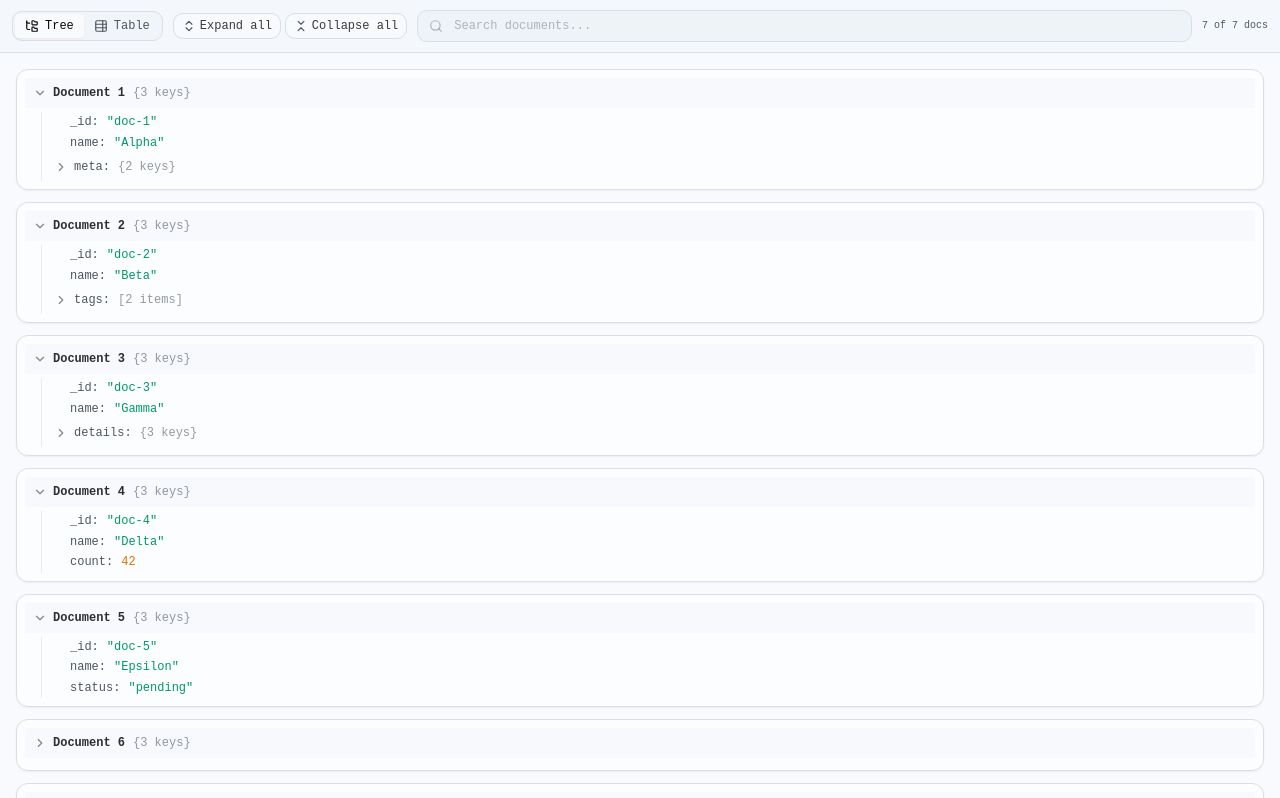
Test: NoSQLResults › expands and collapses all visible tree nodes deterministically via toolbar controls
Check: the button "config" is not shown
// Click expand all: all root documents and nested nodes mount and expand
Click the button "Expand all" at {"x": 227, "y": 26}, box [173, 13, 281, 39]
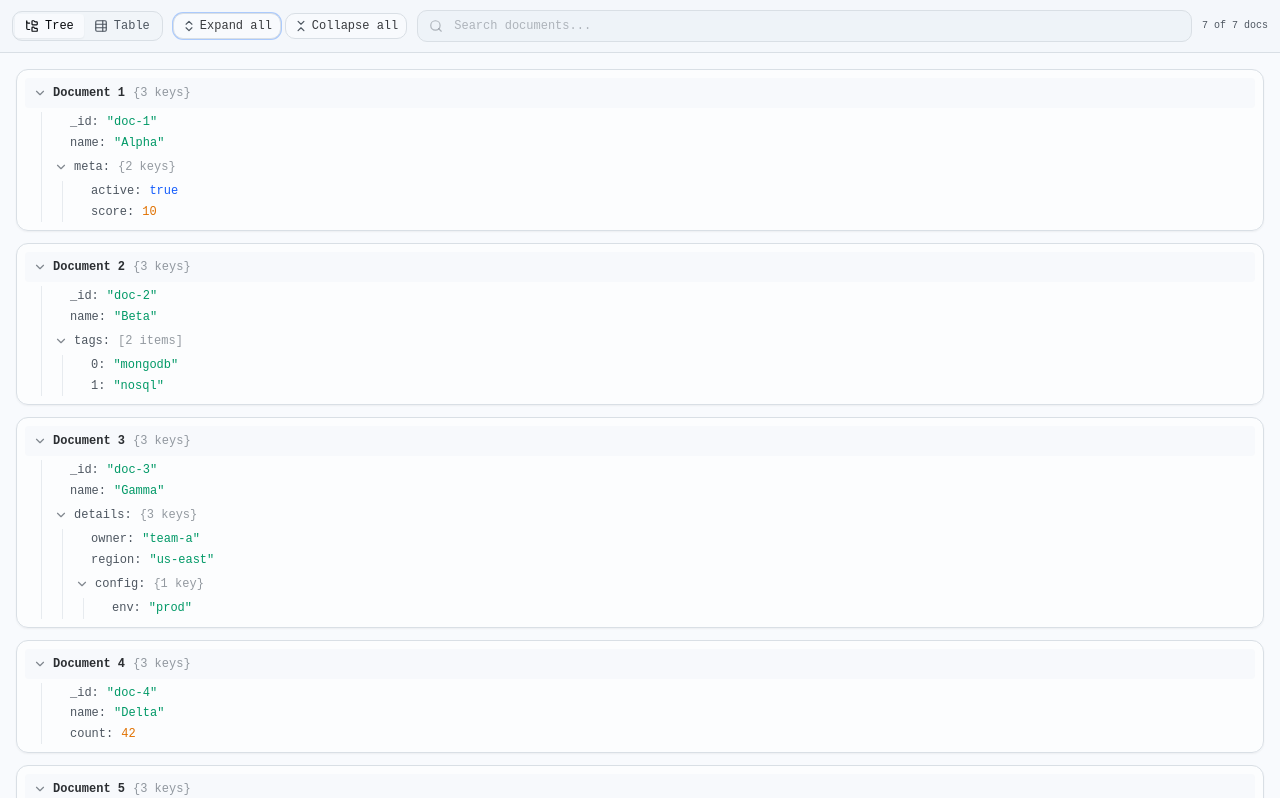
Check: the button "details: {3 keys}" is expanded, box [54, 505, 1247, 525]
// Click collapse all: all root documents and nested nodes collapse deterministically
Click the button "Collapse all" at {"x": 346, "y": 26}, box [285, 13, 407, 39]
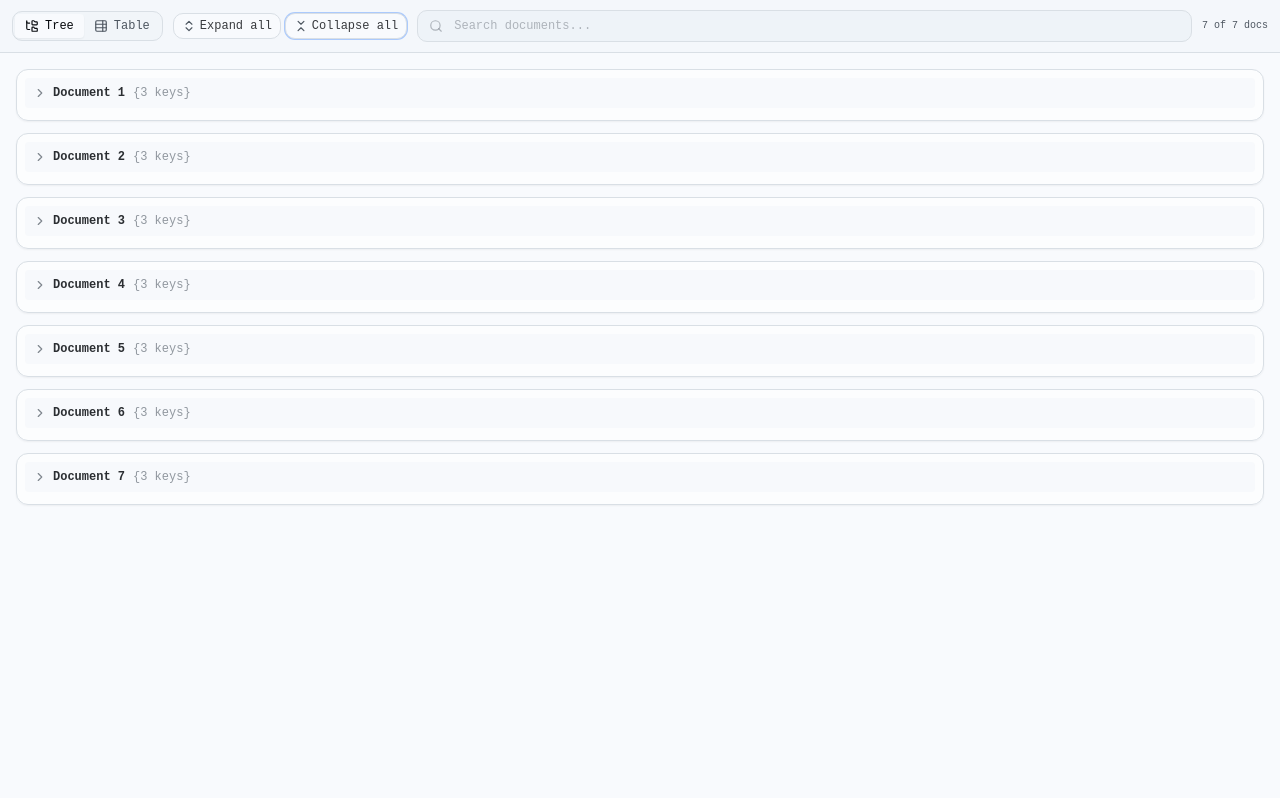
Check: the button "Document 1 {3 keys}" is collapsed, box [33, 83, 1217, 103]
Check: the button "Document 2 {3 keys}" is collapsed, box [33, 147, 1217, 167]
Check: the button "Document 3 {3 keys}" is collapsed
// Re-opening Document 3 shows its nested branch is collapsed deterministically
Click the button "Document 3 {3 keys}" at {"x": 85, "y": 221}, box [33, 211, 1217, 231]
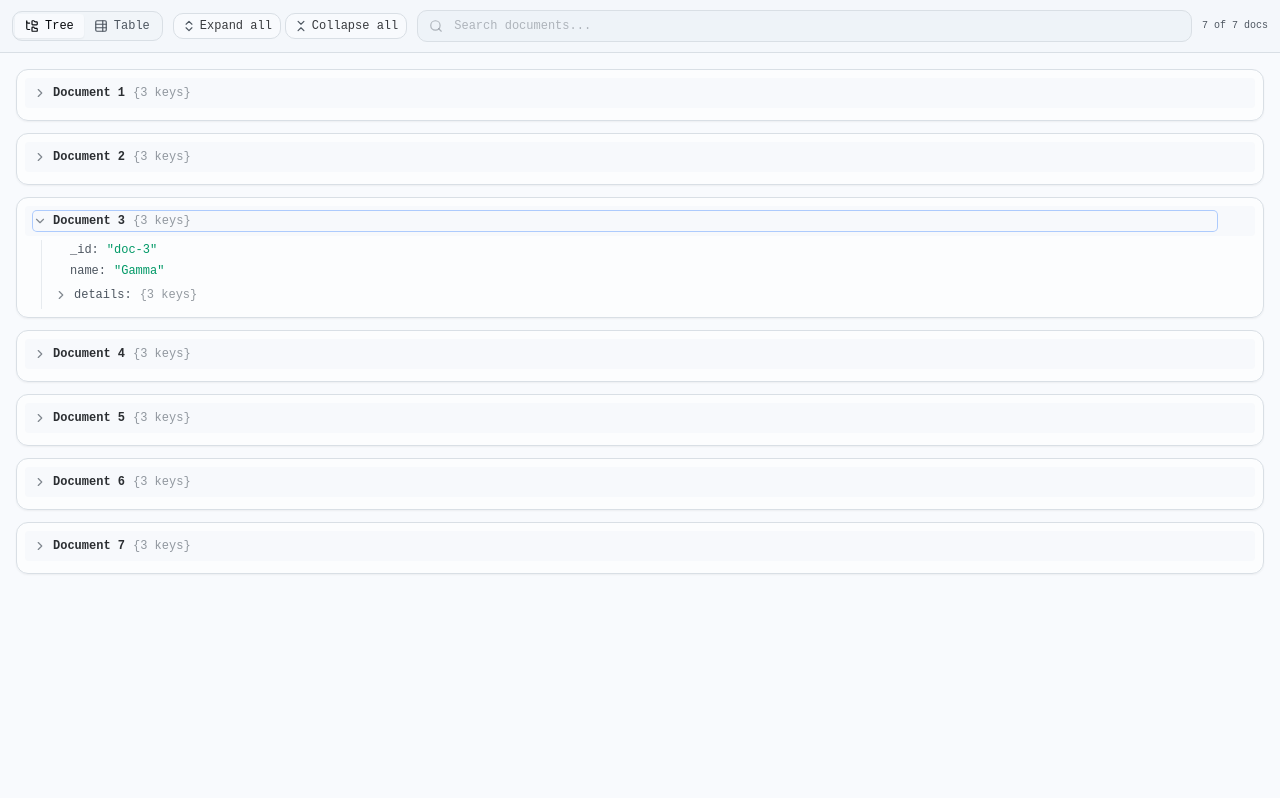
Check: the button "config" is not shown
Check: the button "details: {3 keys}" is collapsed, box [54, 285, 1247, 305]
Check: the button "Document 3 {3 keys}" is expanded, box [33, 211, 1217, 231]
